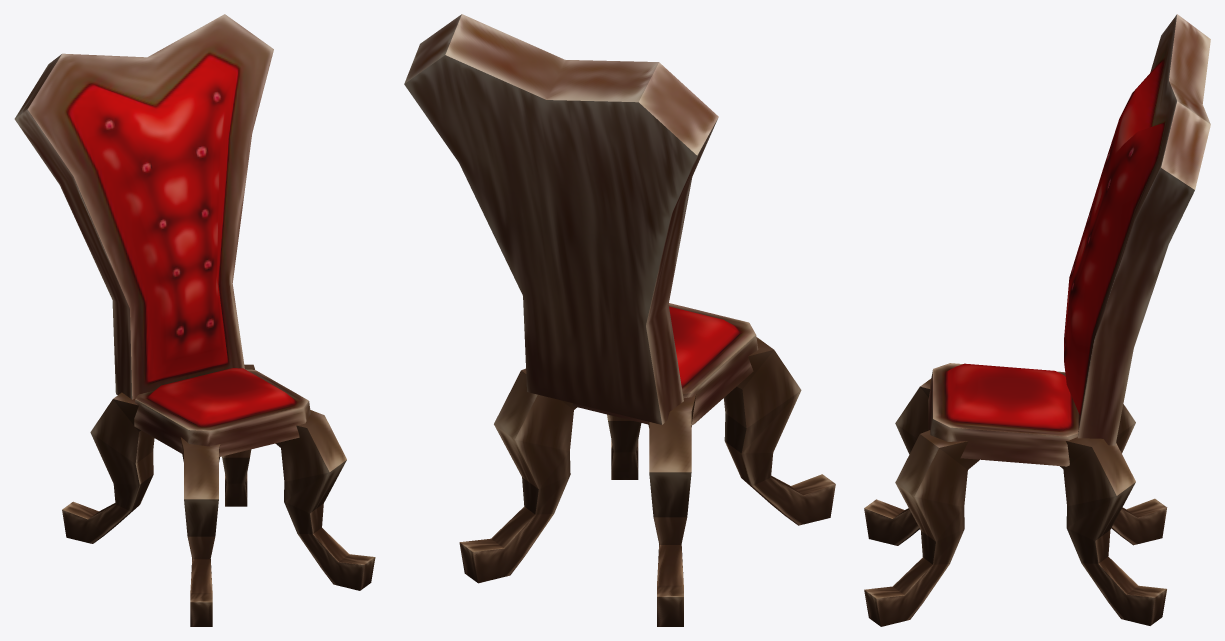
The model's file is Vampire_Village_Props_20.FBX.
3 views of the same model, side by side, from view 1: azimuth 30°, elevation 25°; view 2: azimuth 150°, elevation 25°; view 3: azimuth 270°, elevation 25° (orthographic). The views are drawn at different scales.
Visible parts, largest first — view 1: Vampire_Village_Props_20; view 2: Vampire_Village_Props_20; view 3: Vampire_Village_Props_20.
Boxes of the visible parts, x1=… form: Vampire_Village_Props_20: x1=14, y1=14, x2=375, y2=626; Vampire_Village_Props_20: x1=404, y1=14, x2=835, y2=626; Vampire_Village_Props_20: x1=864, y1=14, x2=1210, y2=626.
Size of the model in its own units: 110 by 202 by 122.
